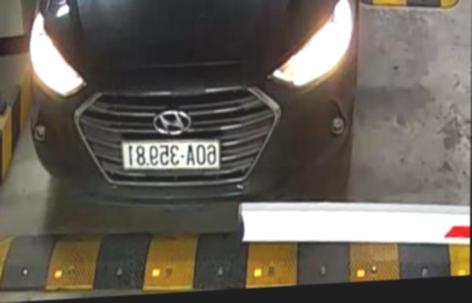License_Plate: (113, 133, 226, 179)
